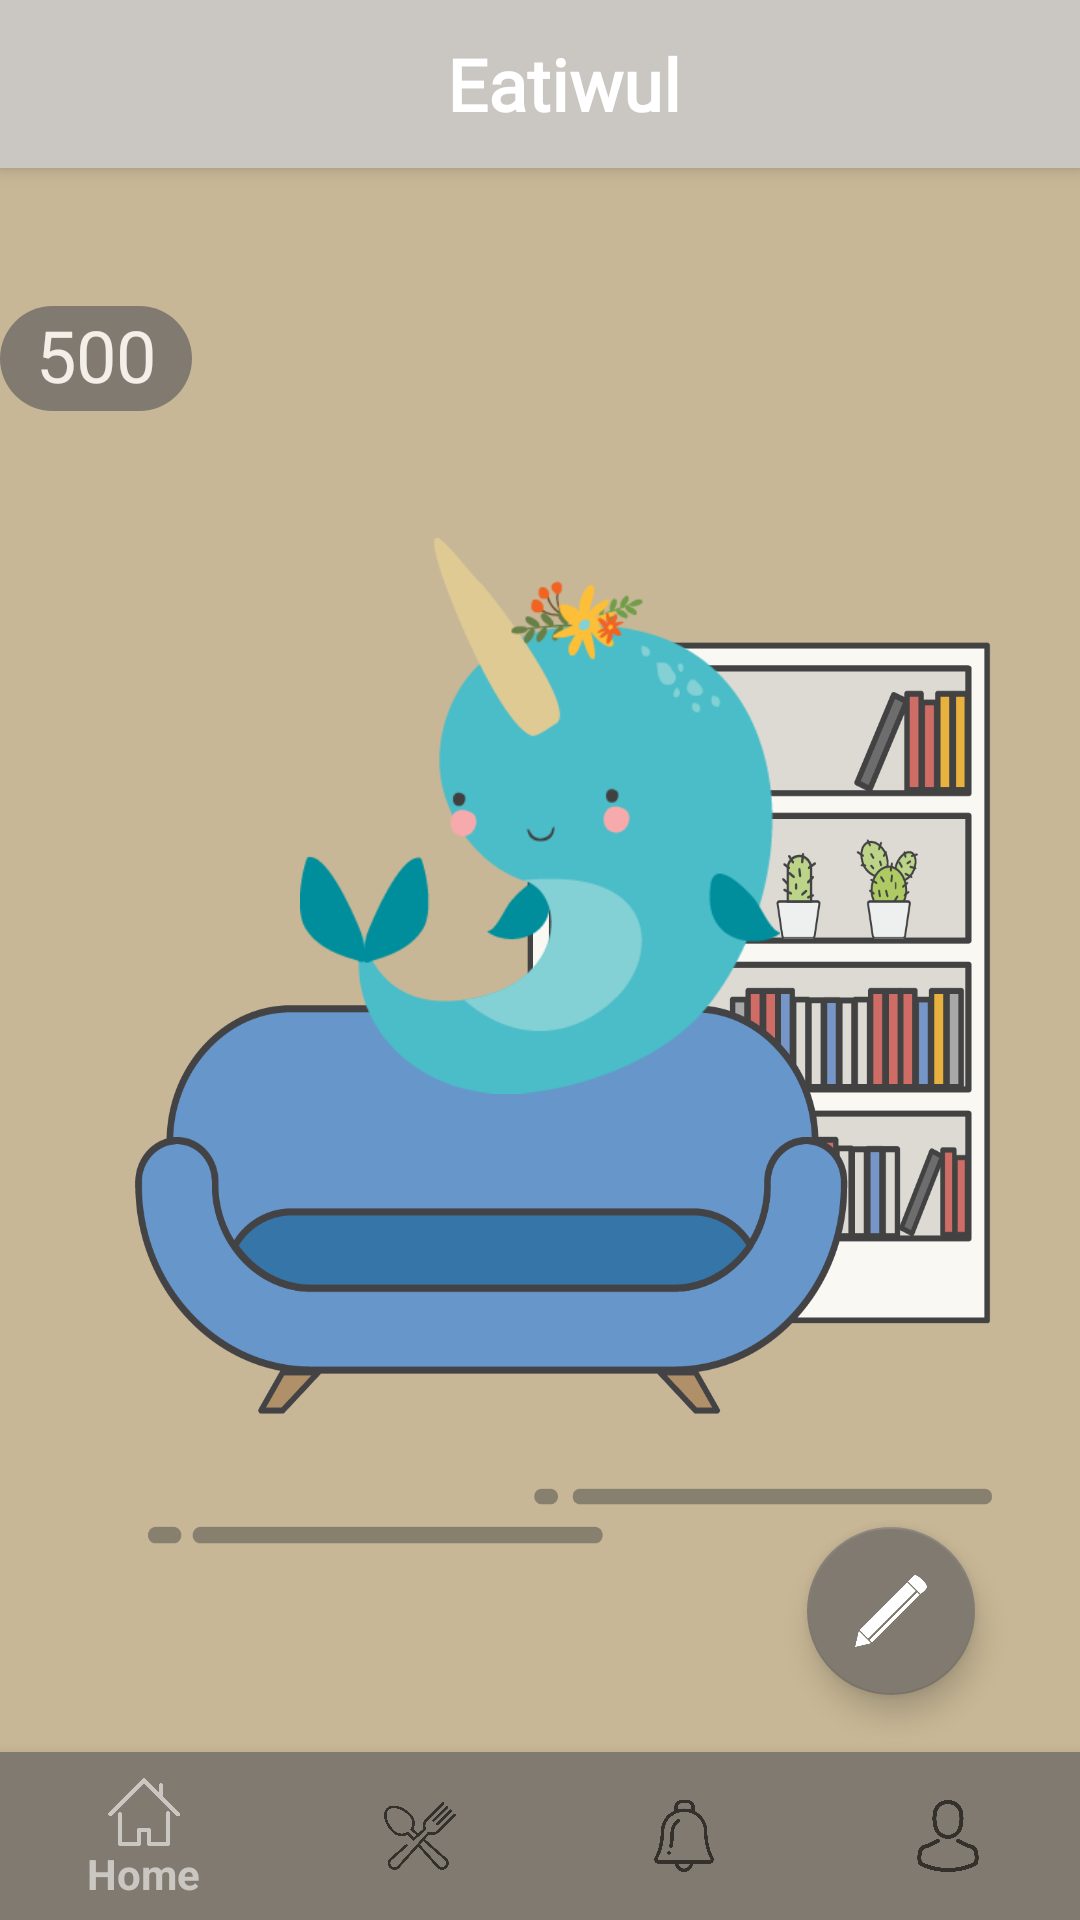

Icon bounding boxes for this 1080 × 1920 phone screenshot, format (x1, y1, x2, y2):
create: (807, 1527, 975, 1695)
